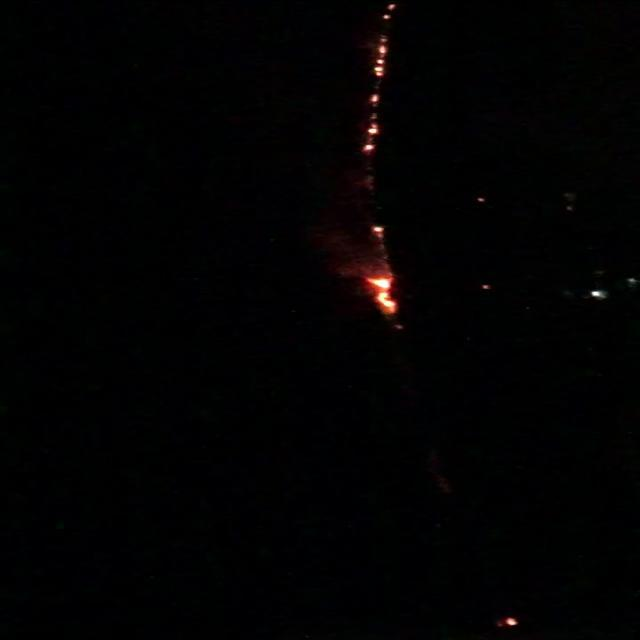Fire: (368, 276, 399, 312), (372, 36, 392, 76), (360, 122, 380, 152), (369, 225, 384, 236), (368, 92, 380, 102)
